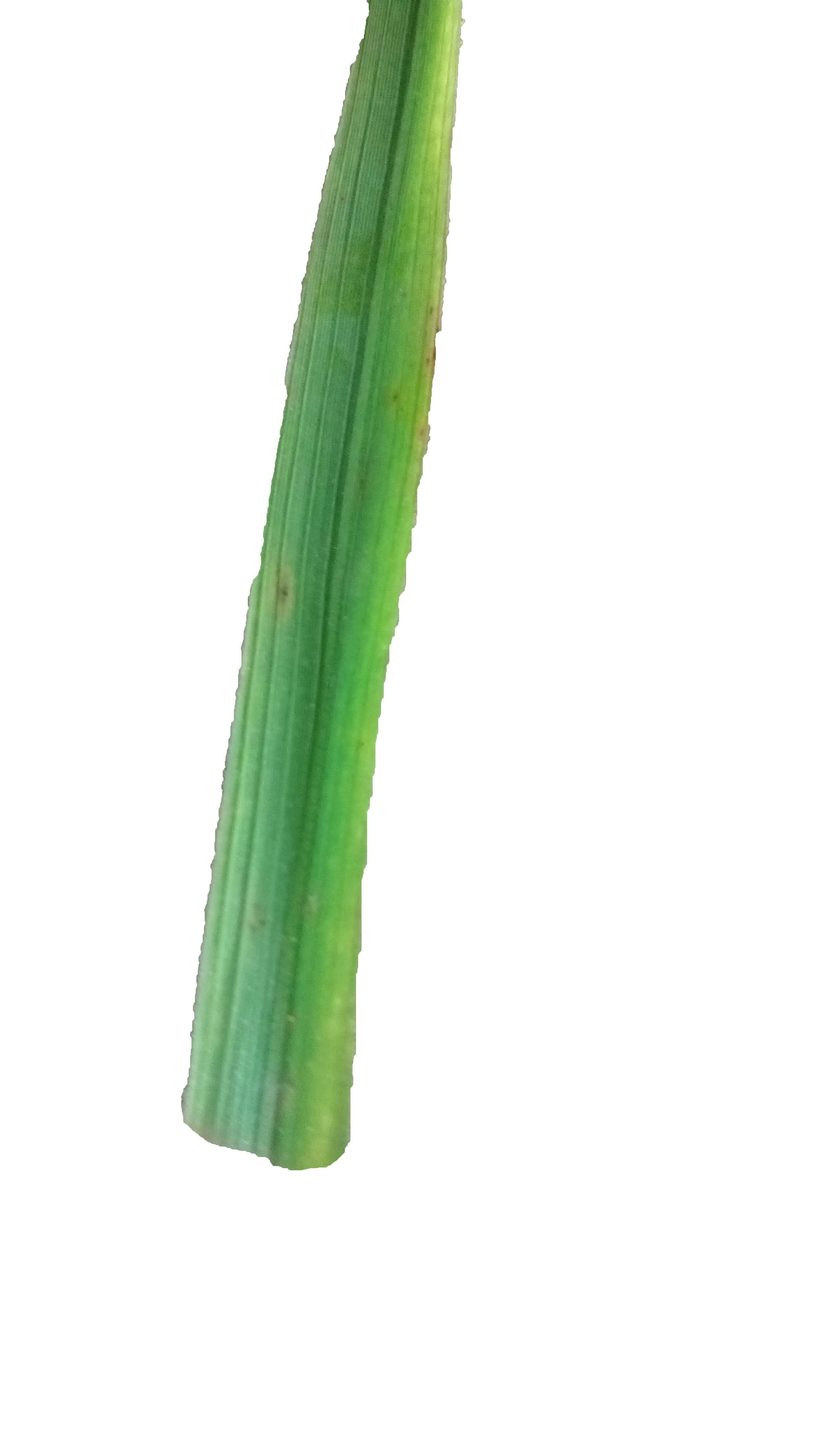Tungro: (278, 3, 462, 1130), (313, 7, 459, 448)
